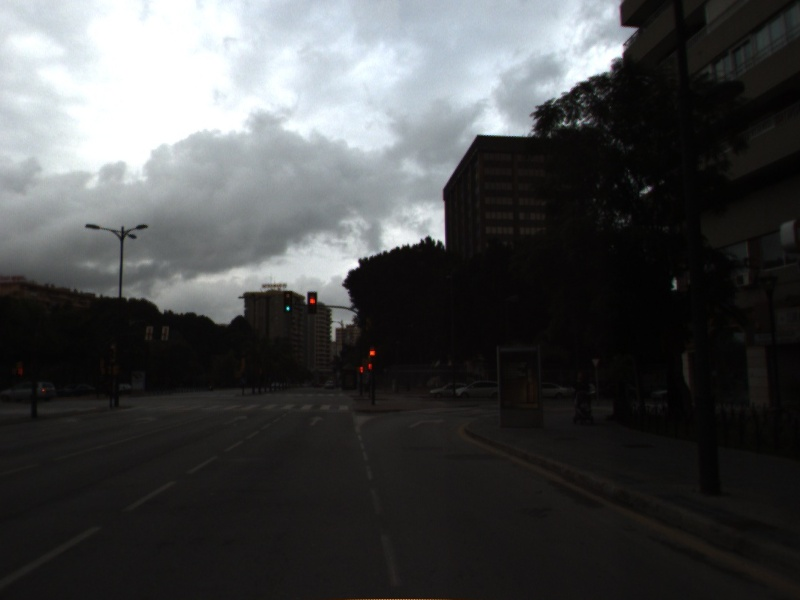RIGHT: (405, 416, 449, 431)
STRAIGHT: (221, 413, 250, 427), (305, 414, 328, 427)
